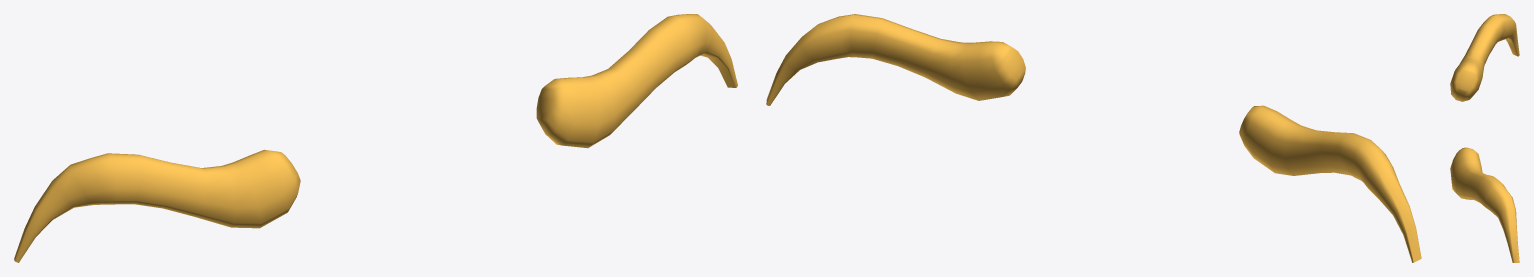
Rendered from Eyebrows_27_05.fbx.
3 views of the same model, side by side, from view 1: azimuth 30°, elevation 25°; view 2: azimuth 150°, elevation 25°; view 3: azimuth 270°, elevation 25° (orthographic). The views are drawn at different scales.
Visible parts, largest first — view 1: Eyebrows_27_05; view 2: Eyebrows_27_05; view 3: Eyebrows_27_05.
Boxes of the visible parts, x1,y1,x2,y2 form: Eyebrows_27_05: (14,14,737,262); Eyebrows_27_05: (766,14,1421,262); Eyebrows_27_05: (1450,14,1519,262).
Bounding box in the file's own units: 18.72 × 2.55 × 2.61.
